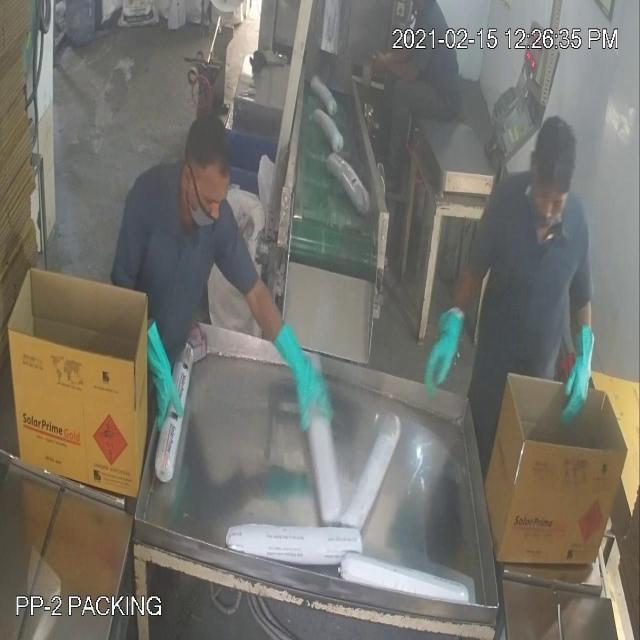Gloves: (46, 39, 578, 378)
